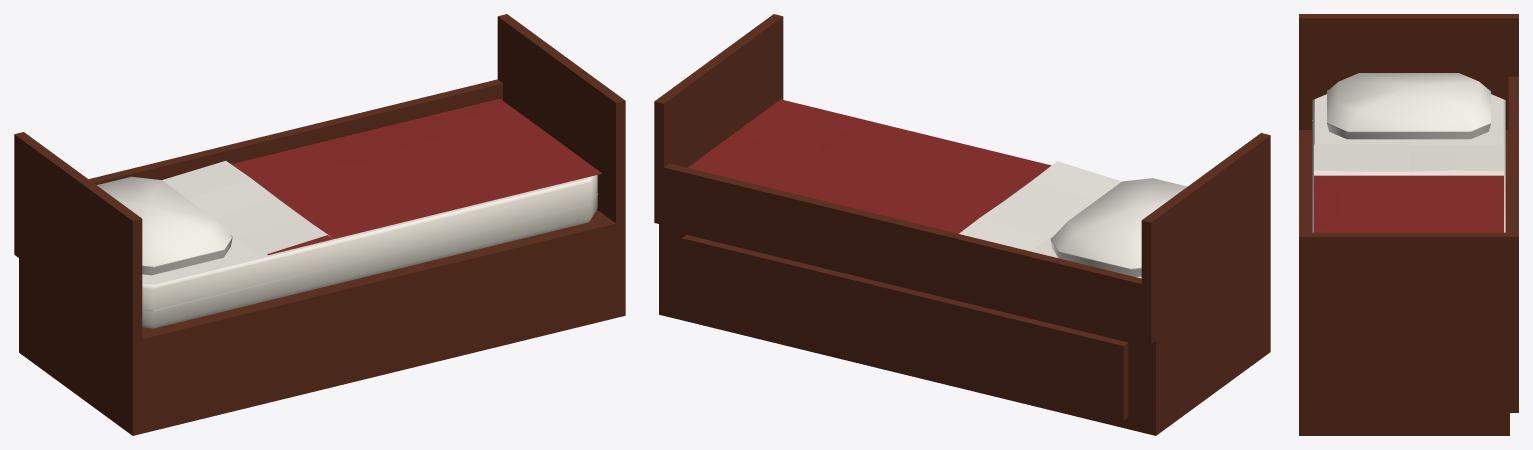
Rendered from parametric-sized-berth-l180-2nd.glb.
The picture shows the model from 3 angles, left to right: view 1: azimuth 30°, elevation 25°; view 2: azimuth 150°, elevation 25°; view 3: azimuth 270°, elevation 25°; orthographic projection. The views are drawn at different scales.
Parts seen in each view (by area): view 1: parametric-sized-berth-l180-2nd; view 2: parametric-sized-berth-l180-2nd; view 3: parametric-sized-berth-l180-2nd.
Boxes of the visible parts, x1=… form: parametric-sized-berth-l180-2nd: x1=14, y1=14, x2=625, y2=435; parametric-sized-berth-l180-2nd: x1=654, y1=14, x2=1270, y2=435; parametric-sized-berth-l180-2nd: x1=1299, y1=14, x2=1518, y2=435.
Bounding box in the file's own units: 1.8 × 0.75 × 0.75.
